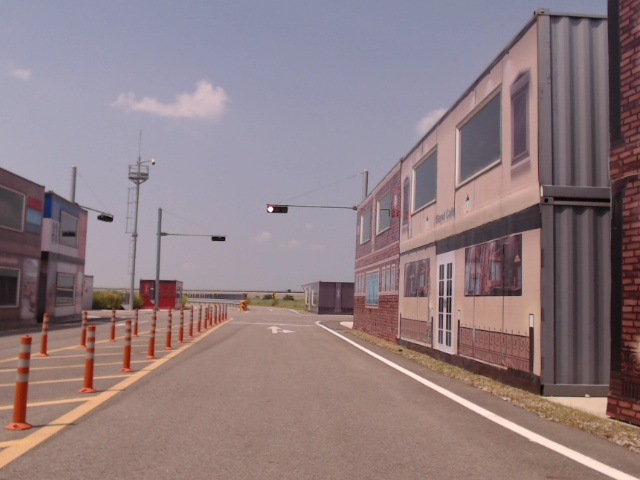red_3: (267, 205, 287, 214)
